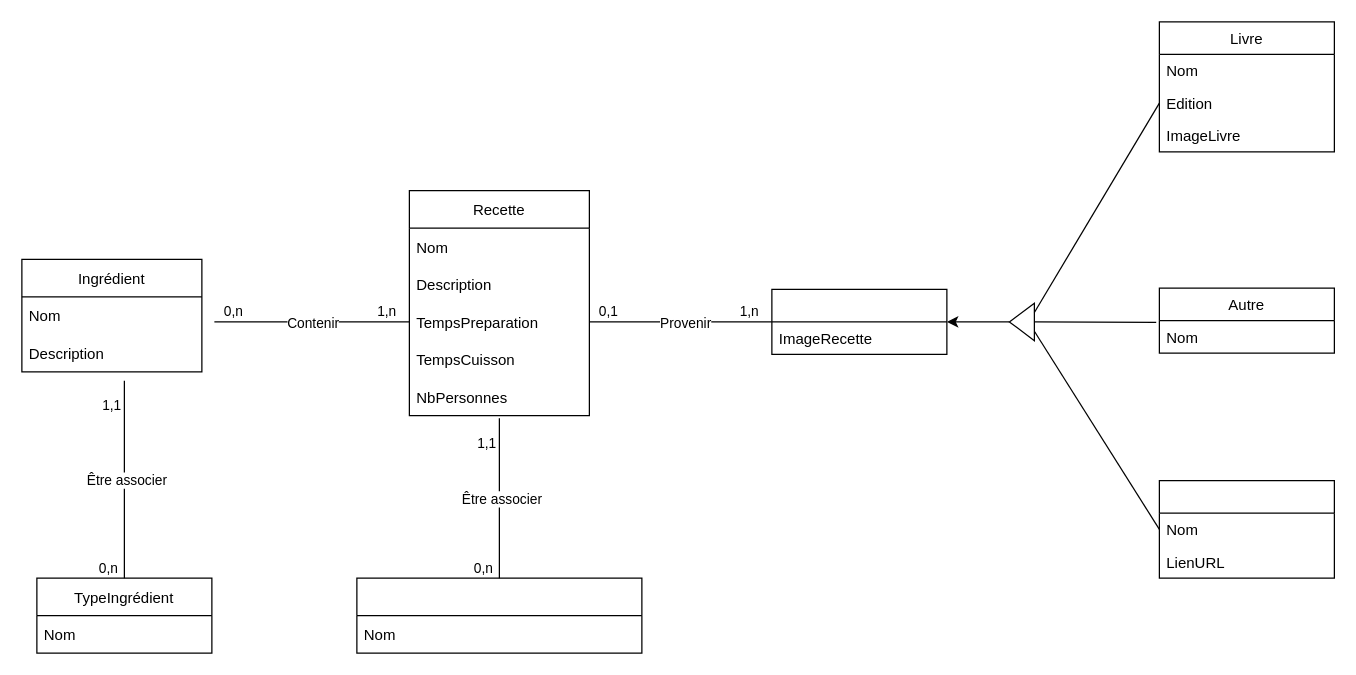
Image size: 1356x675. Some labels were removed from this diagram. The shapes that lost their labels are listed below. From the top down, each one's box as (x1, y1, x2, y2) in pixels, then its label:
(771, 288, 947, 354): Source
(1158, 479, 1334, 578): SiteWeb
(356, 577, 642, 653): TypeRecette (entrée, plat, dessert, etc...)
